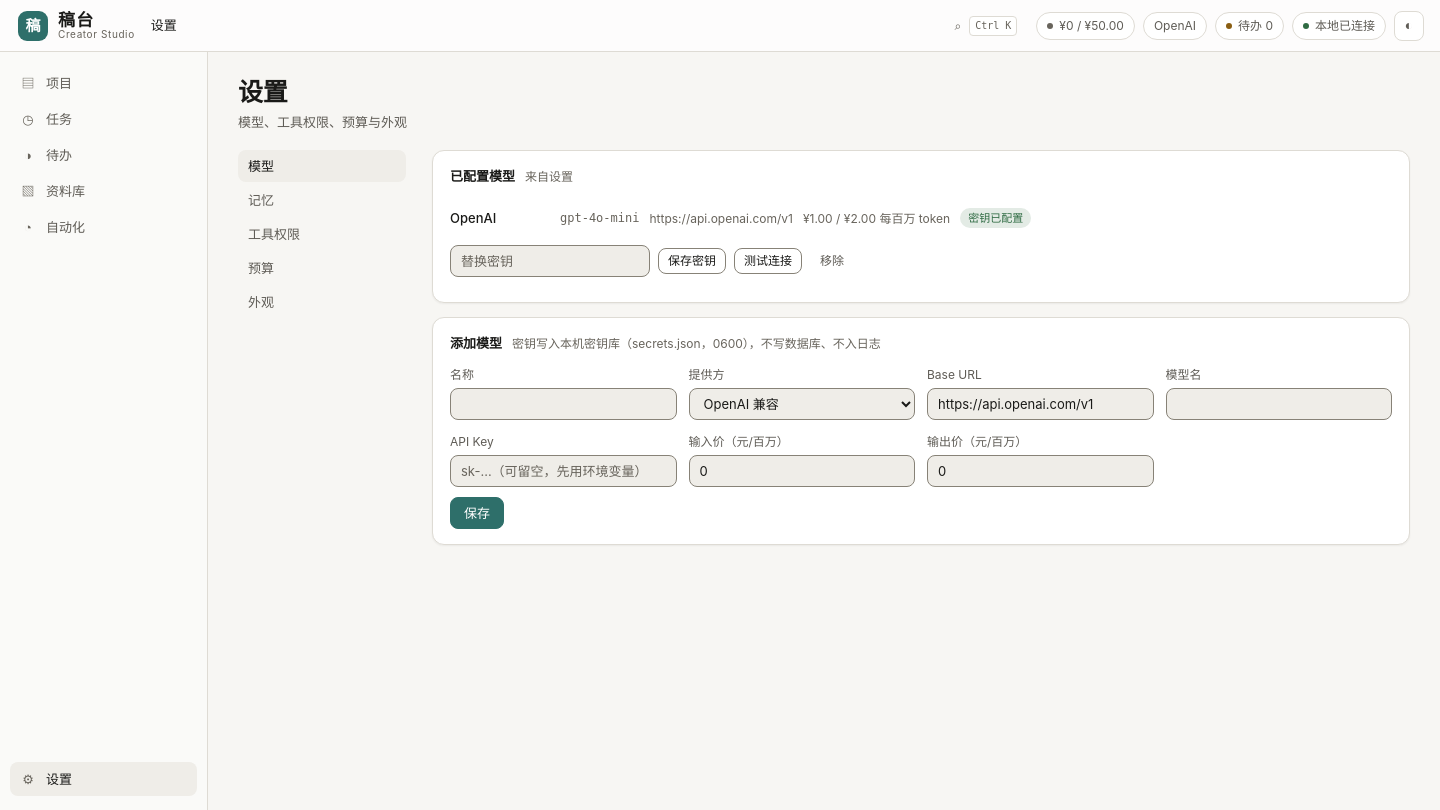
Test: memory settings › shows the offline lexical mode and lists embedding models
Click the button "记忆": (322, 200) [238,184,406,216]
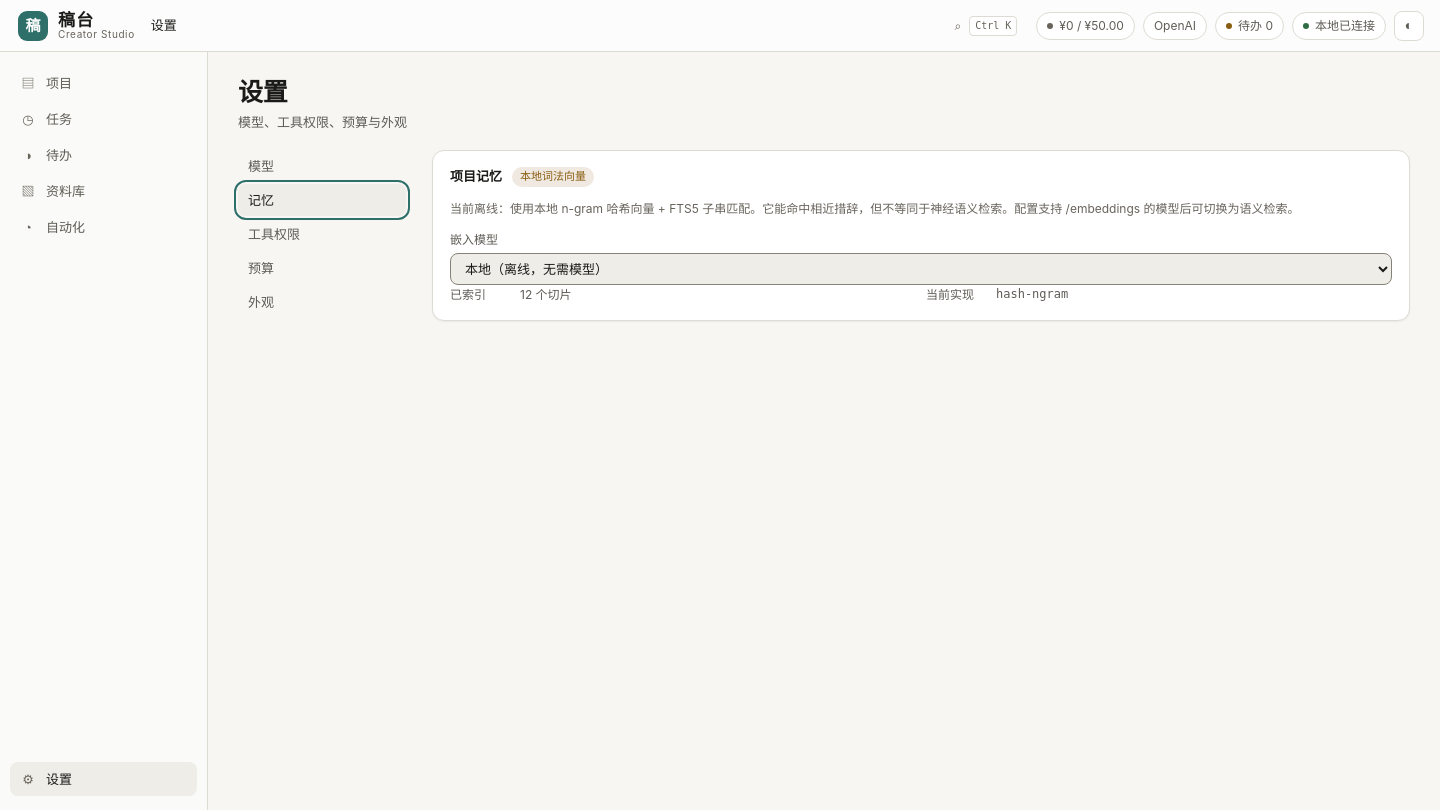
expect the text "本地 n-gram 哈希向量" is shown: met, box [450,201,1300,216]
expect the dropdown labelled "嵌入模型" shows "本地（离线，无需模型）": met, box [450,254,1392,286]
expect the text "hash-ngram" is shown: met, box [996,288,1068,302]
